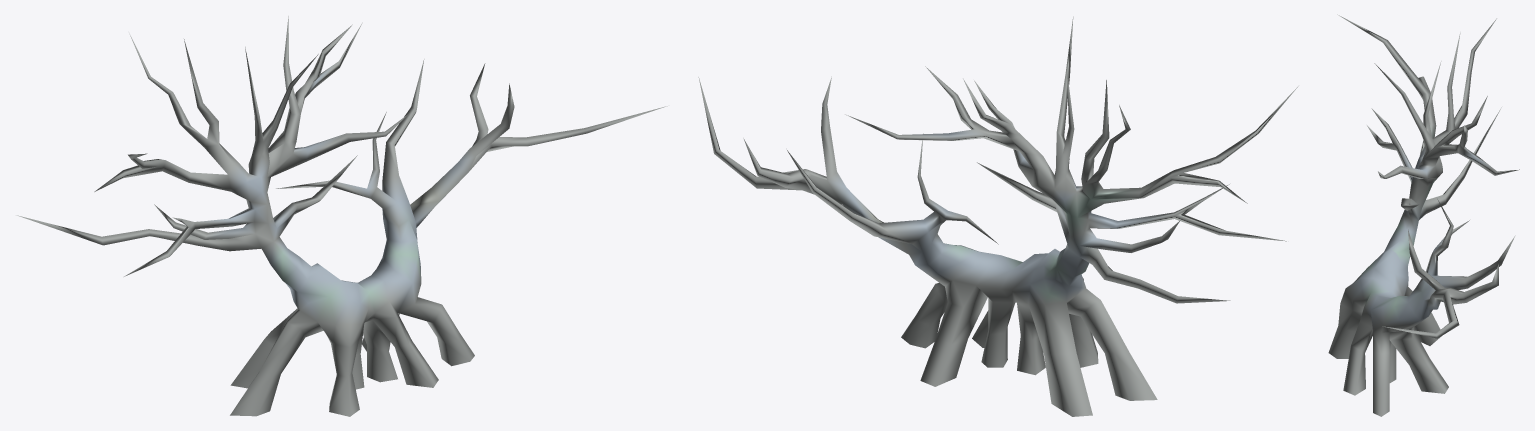
3 renders of one model, left to right at view 1: azimuth 30°, elevation 25°; view 2: azimuth 150°, elevation 25°; view 3: azimuth 270°, elevation 25°, orthographic. The views are drawn at different scales.
Parts seen in each view (by area): view 1: G:\FFXIV-MapTools\exports\l1f1\bg\ffxiv\lak_l1\fld\l1f1\bgpa; view 2: G:\FFXIV-MapTools\exports\l1f1\bg\ffxiv\lak_l1\fld\l1f1\bgpa; view 3: G:\FFXIV-MapTools\exports\l1f1\bg\ffxiv\lak_l1\fld\l1f1\bgpa.
Part boxes in pixels (x1=…): G:\FFXIV-MapTools\exports\l1f1\bg\ffxiv\lak_l1\fld\l1f1\bgpa: x1=16, y1=16, x2=667, y2=416; G:\FFXIV-MapTools\exports\l1f1\bg\ffxiv\lak_l1\fld\l1f1\bgpa: x1=698, y1=16, x2=1298, y2=416; G:\FFXIV-MapTools\exports\l1f1\bg\ffxiv\lak_l1\fld\l1f1\bgpa: x1=1328, y1=14, x2=1519, y2=416.
Bounding box in the file's own units: 12.47 × 7.05 × 4.25.
